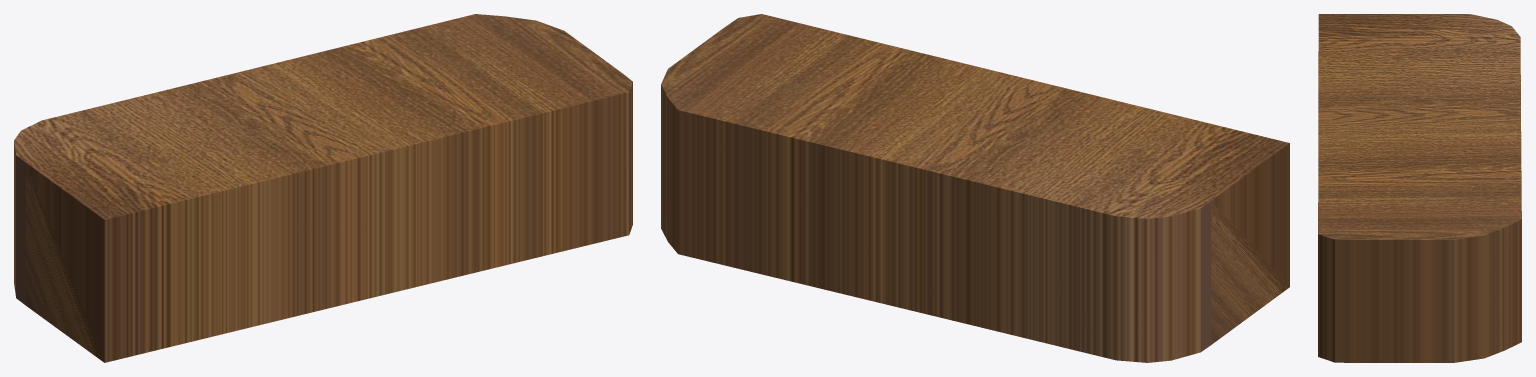
File: banbanhang.fbx
3 renders of one model, left to right at view 1: azimuth 30°, elevation 25°; view 2: azimuth 150°, elevation 25°; view 3: azimuth 270°, elevation 25°, orthographic. The views are drawn at different scales.
Visible parts, largest first — view 1: bàn bán hàng; view 2: bàn bán hàng; view 3: bàn bán hàng.
Part boxes in pixels (x1,y1,x2,y2): bàn bán hàng: (14, 14, 632, 362); bàn bán hàng: (661, 14, 1289, 362); bàn bán hàng: (1318, 14, 1521, 362).
Size of the model in its own units: 796 by 202 by 303.
